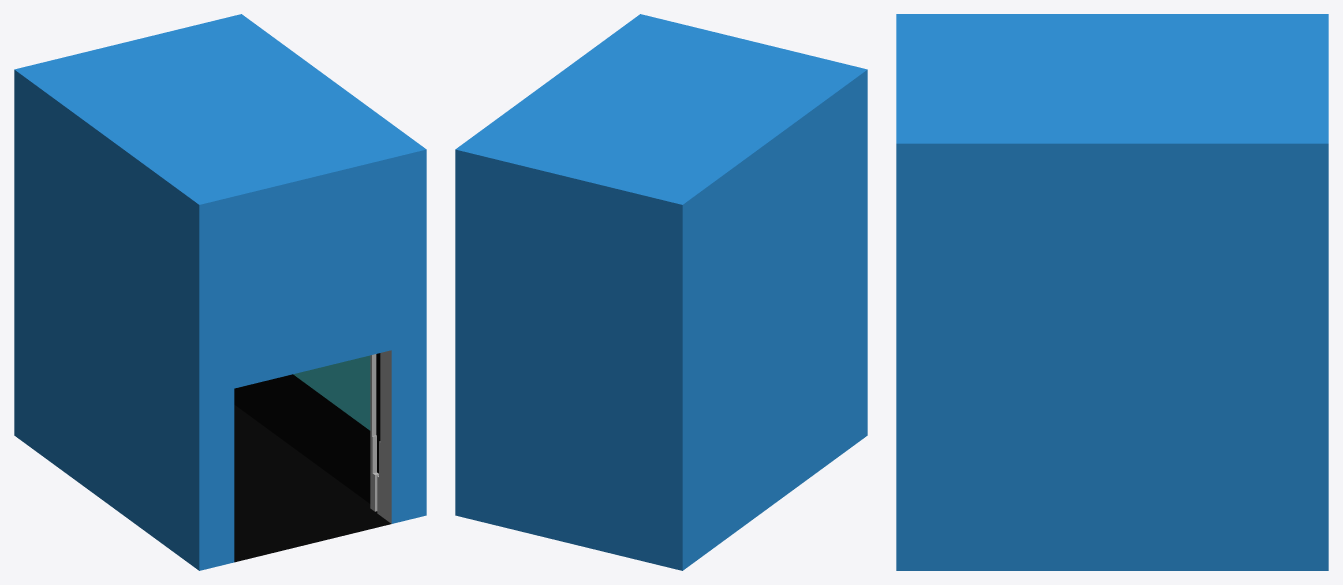
Rendered from Obj_Elevator_6m.fbx.
3 renders of one model, left to right at view 1: azimuth 30°, elevation 25°; view 2: azimuth 150°, elevation 25°; view 3: azimuth 270°, elevation 25°, orthographic. The views are drawn at different scales.
Parts seen in each view (by area): view 1: Base3x5x6; view 2: Base3x5x6; view 3: Base3x5x6.
Boxes of the visible parts, x1,y1,x2,y2 form: Base3x5x6: (14,14,426,570); Base3x5x6: (455,14,867,570); Base3x5x6: (896,14,1328,570).
Size of the model in its own units: 550 by 390 by 600.
